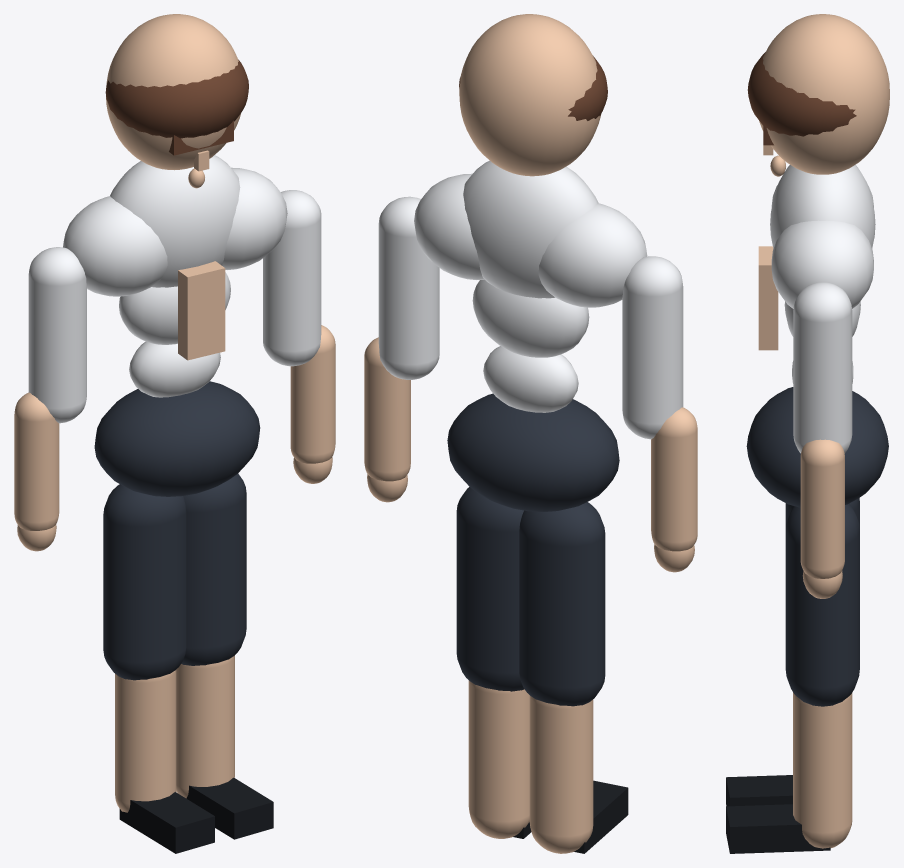
The model's file is female_avatar.glb.
3 renders of one model, left to right at view 1: azimuth 30°, elevation 25°; view 2: azimuth 150°, elevation 25°; view 3: azimuth 270°, elevation 25°, orthographic. The views are drawn at different scales.
Parts seen in each view (by area): view 1: Spine, LeftLeg, Hips, RightLeg, HeadMesh, LeftArm, RightArm, Head, LeftShin, RightShin, LeftForeArm, RightForeArm (+4 smaller); view 2: Spine, HeadMesh, LeftLeg, Hips, RightLeg, LeftArm, RightArm, LeftShin, RightShin, LeftForeArm, RightForeArm, LeftFoot (+3 smaller); view 3: Spine, HeadMesh, RightLeg, RightArm, RightShin, Hips, RightForeArm, Head, RightFoot, LeftFoot, RightHand.
Part boxes in pixels (x1,y1,x2,y2): Spine: [63, 155, 287, 397]; LeftLeg: [103, 484, 186, 680]; Hips: [94, 381, 260, 496]; RightLeg: [181, 473, 246, 665]; HeadMesh: [106, 14, 240, 170]; LeftArm: [28, 247, 86, 423]; RightArm: [263, 190, 321, 366]; Head: [105, 59, 248, 188]; LeftShin: [115, 670, 176, 812]; RightShin: [176, 655, 234, 798]; LeftForeArm: [14, 392, 59, 530]; RightForeArm: [290, 325, 335, 463]; Spine: [414, 160, 647, 412]; HeadMesh: [459, 14, 601, 176]; LeftLeg: [519, 502, 605, 706]; Hips: [447, 393, 619, 511]; RightLeg: [456, 487, 524, 691]; LeftArm: [622, 256, 683, 439]; RightArm: [378, 196, 439, 379]; LeftShin: [529, 695, 593, 853]; RightShin: [468, 680, 529, 838]; LeftForeArm: [651, 407, 697, 551]; RightForeArm: [364, 337, 410, 481]; LeftFoot: [574, 780, 628, 853]; Spine: [758, 165, 875, 383]; HeadMesh: [759, 14, 889, 174]; RightLeg: [785, 504, 859, 706]; RightArm: [793, 282, 852, 453]; RightShin: [793, 693, 852, 848]; Hips: [746, 387, 888, 507]; RightForeArm: [800, 439, 844, 578]; Head: [747, 52, 856, 176]; RightFoot: [726, 804, 830, 853]; LeftFoot: [726, 775, 792, 806]; RightHand: [802, 571, 842, 598].
Size of the model in its own units: 1.51 by 3.62 by 0.6628.
